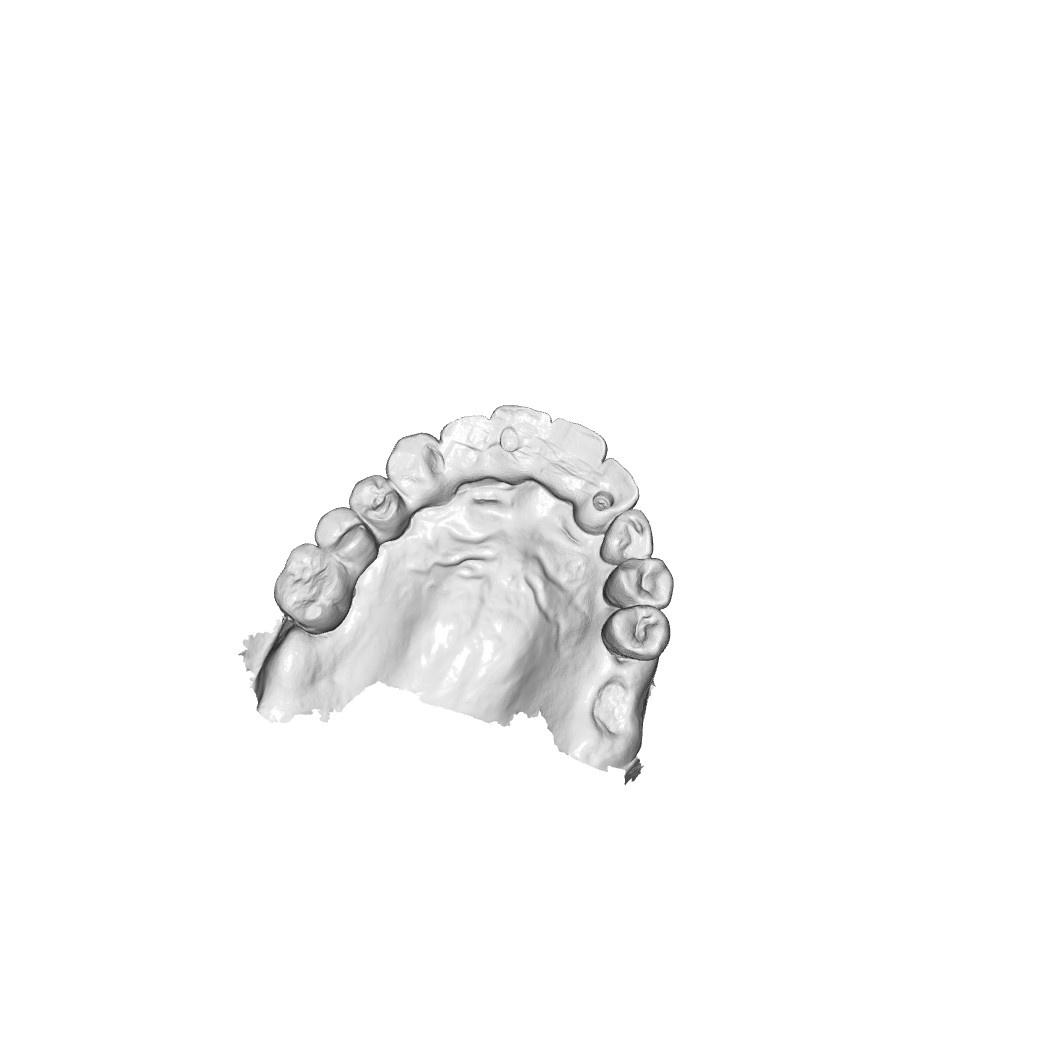canine: (384, 429, 448, 508), (605, 507, 657, 563)
incisor: (486, 403, 545, 475), (545, 419, 608, 484), (437, 414, 492, 483), (578, 458, 637, 520)
molar: (272, 542, 353, 633)
premolar: (347, 474, 409, 539), (605, 606, 674, 660), (606, 556, 674, 608), (313, 505, 373, 562)
